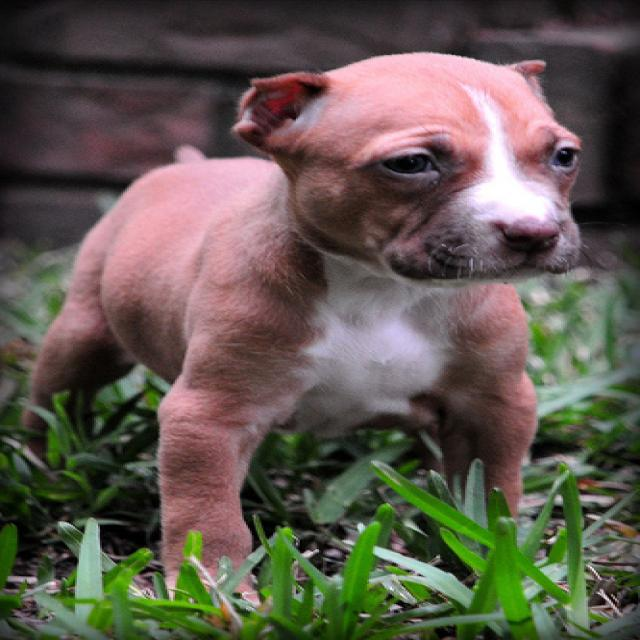dog-american_pit_bull_terrier: (2, 40, 602, 594)
